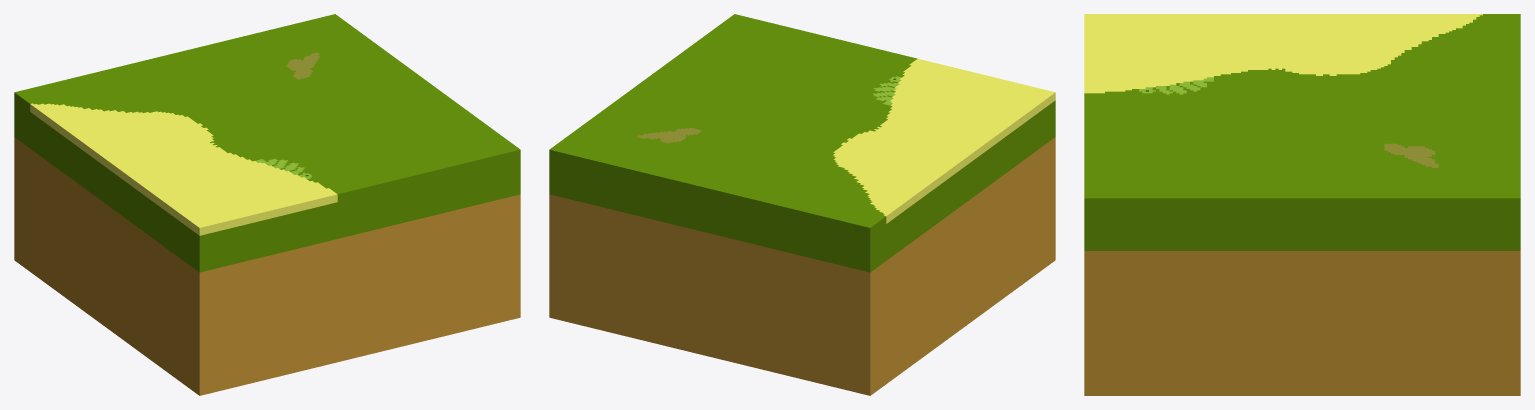
The picture shows the model from 3 angles, left to right: view 1: azimuth 30°, elevation 25°; view 2: azimuth 150°, elevation 25°; view 3: azimuth 270°, elevation 25°; orthographic projection. The views are drawn at different scales.
Visible parts, largest first — view 1: 14K; view 2: 14K; view 3: 14K.
Part boxes in pixels (x1,y1,x2,y2): 14K: [14, 14, 520, 395]; 14K: [549, 14, 1055, 395]; 14K: [1084, 14, 1520, 395].
Bounding box in the file's own units: 12.8 × 6.4 × 12.8.
Materials: 1 (1 with a texture image).
